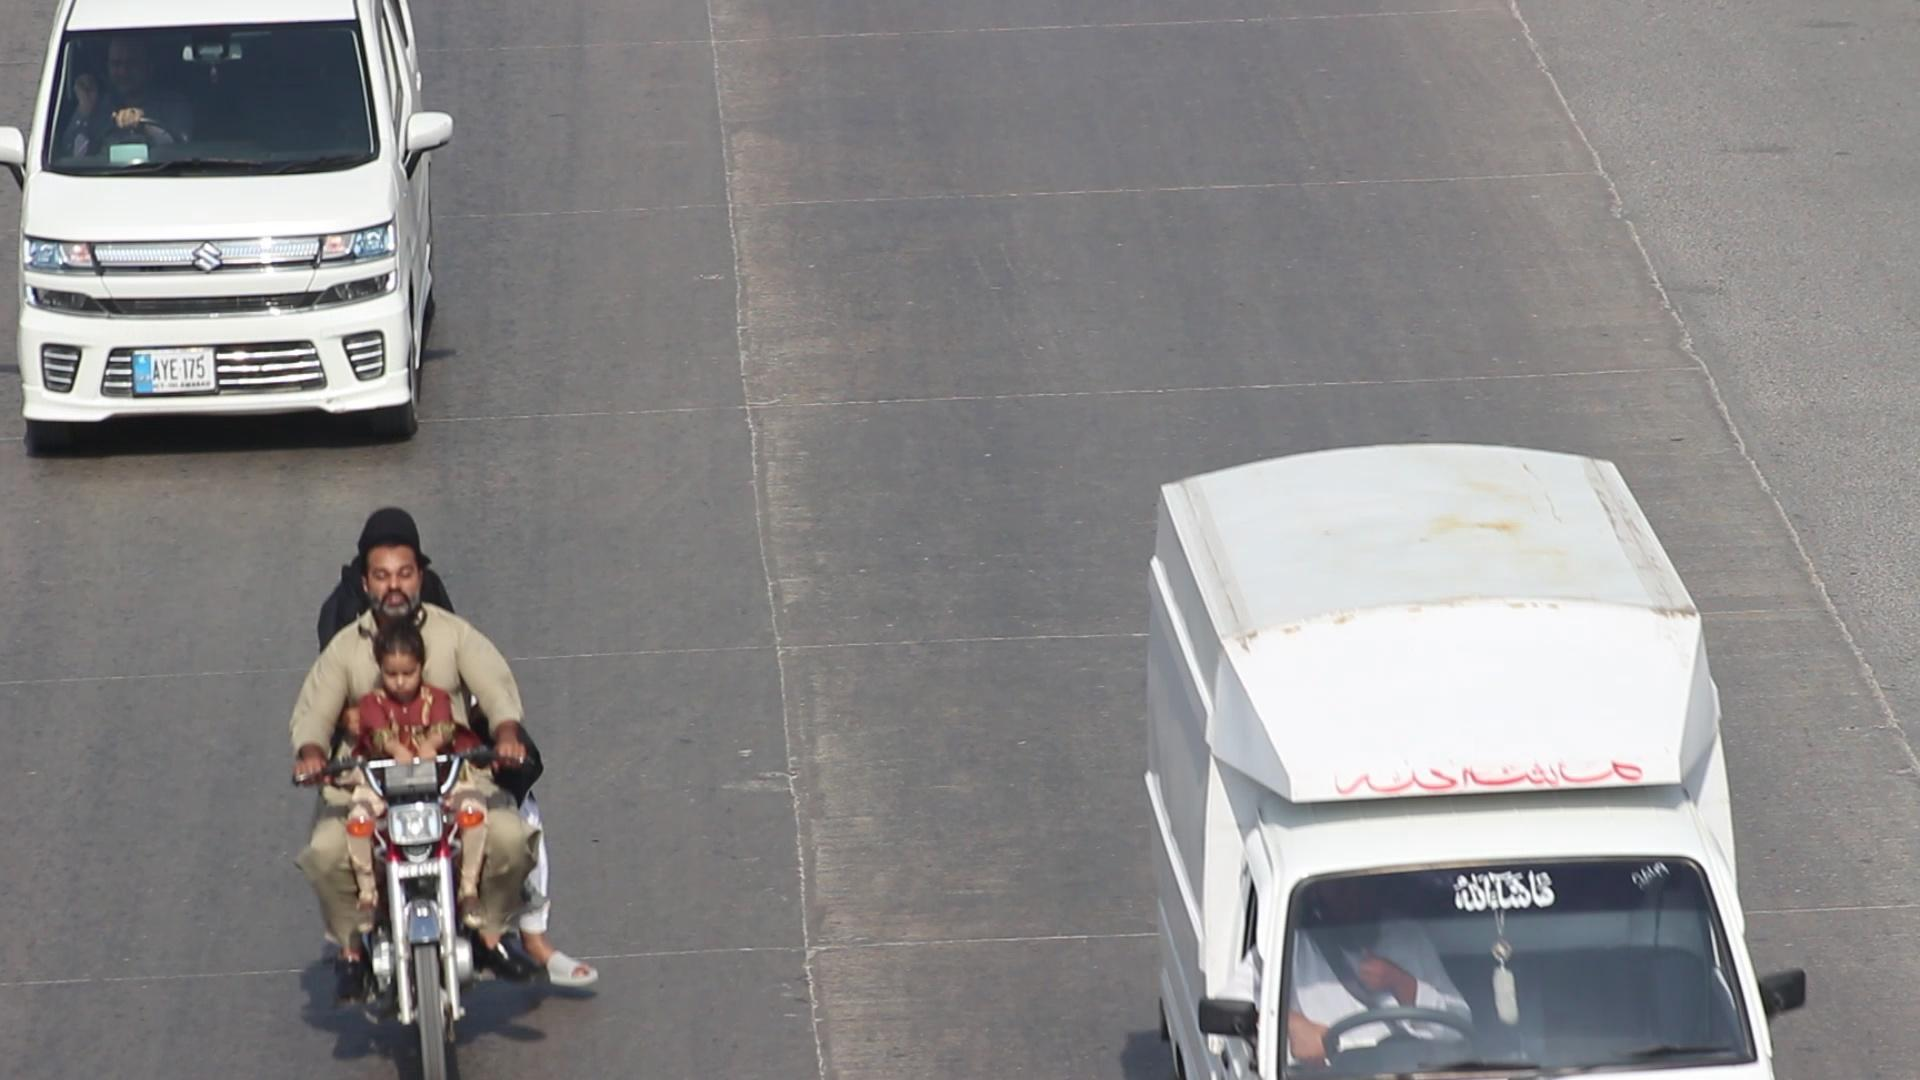windshield: (30, 4, 388, 183)
